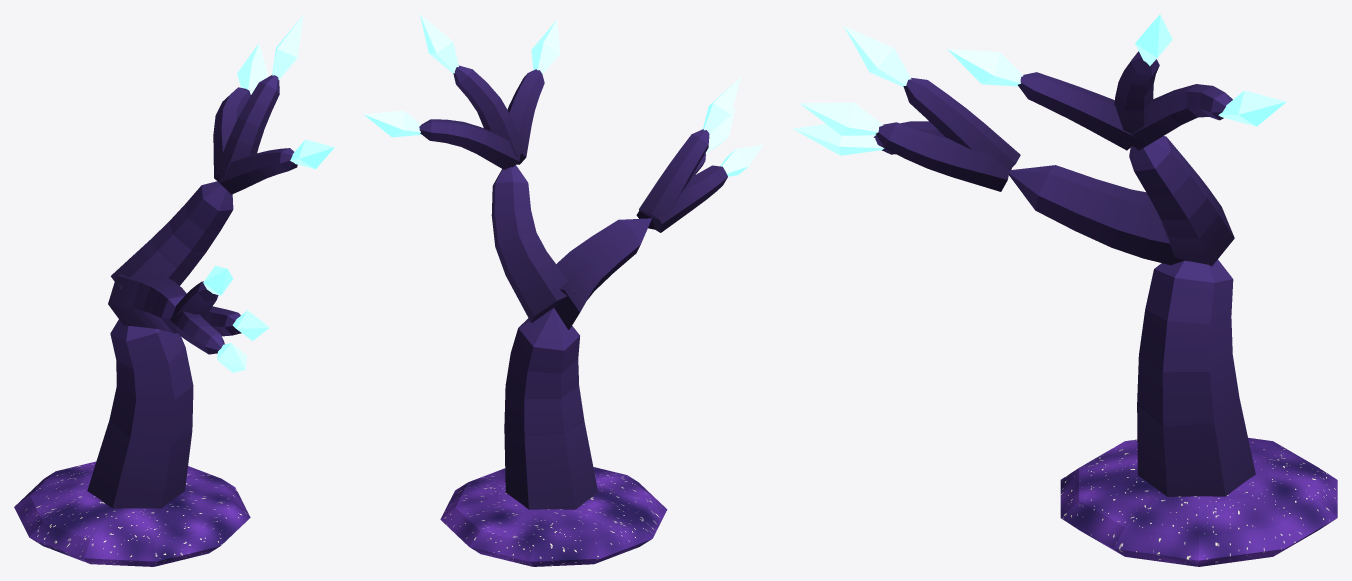
Rendered from StarCrystalTree.glb.
The picture shows the model from 3 angles, left to right: view 1: azimuth 30°, elevation 25°; view 2: azimuth 150°, elevation 25°; view 3: azimuth 270°, elevation 25°; orthographic projection. The views are drawn at different scales.
Parts seen in each view (by area): view 1: StarCrystalTree, StarCrystalTree_Glow; view 2: StarCrystalTree, StarCrystalTree_Glow; view 3: StarCrystalTree, StarCrystalTree_Glow.
Boxes of the visible parts, left/top/right/bottom form: StarCrystalTree: left=14, top=74, right=297, bottom=566; StarCrystalTree_Glow: left=203, top=14, right=334, bottom=372; StarCrystalTree: left=419, top=65, right=727, bottom=566; StarCrystalTree_Glow: left=364, top=14, right=763, bottom=176; StarCrystalTree: left=873, top=51, right=1337, bottom=566; StarCrystalTree_Glow: left=793, top=14, right=1286, bottom=155.
Bounding box in the file's own units: 2.32 × 4.14 × 3.37.
2 materials, 1 textured.
